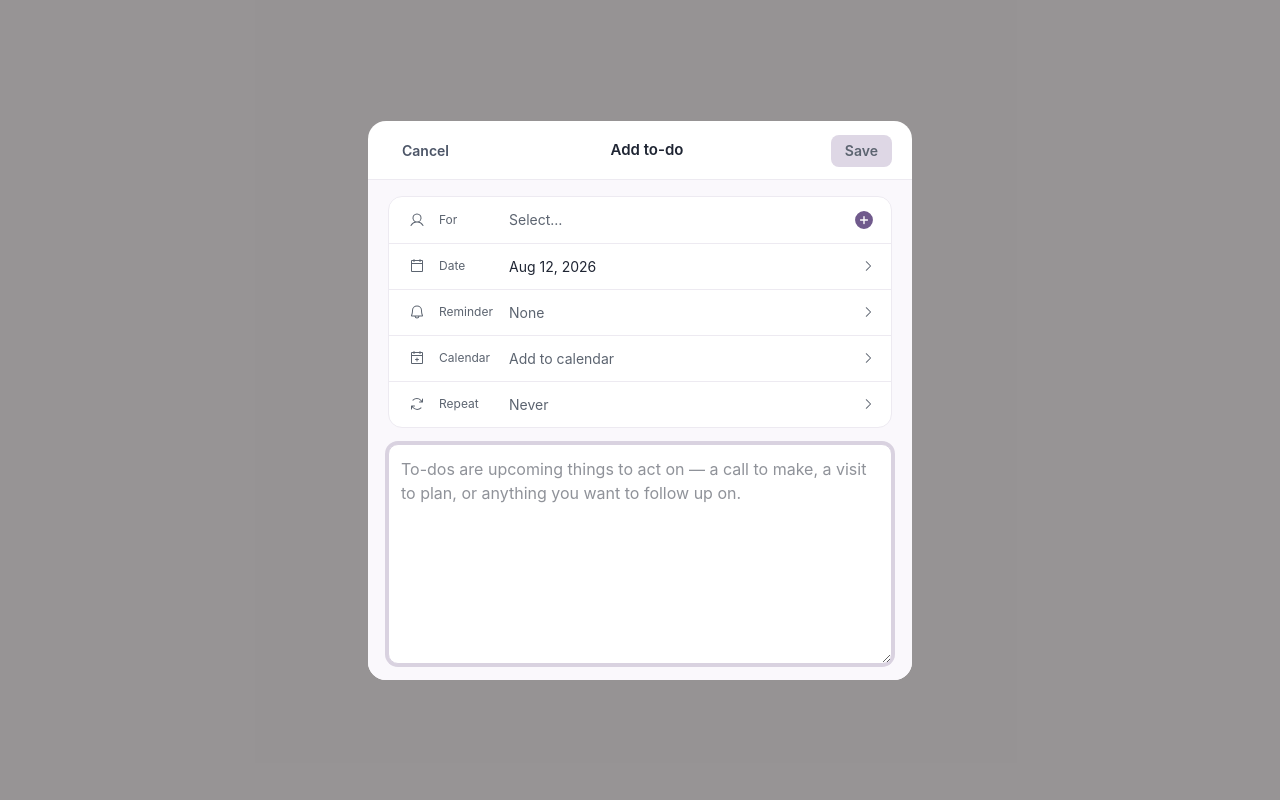
it: AddTodoModal › enables the Save button once a title is typed
The width and height of the screenshot is (1280, 800).
Replace the text in the text box with placeholder "To-dos are upcoming" with "Call John": {"x": 640, "y": 554} 388,444 -> 892,664
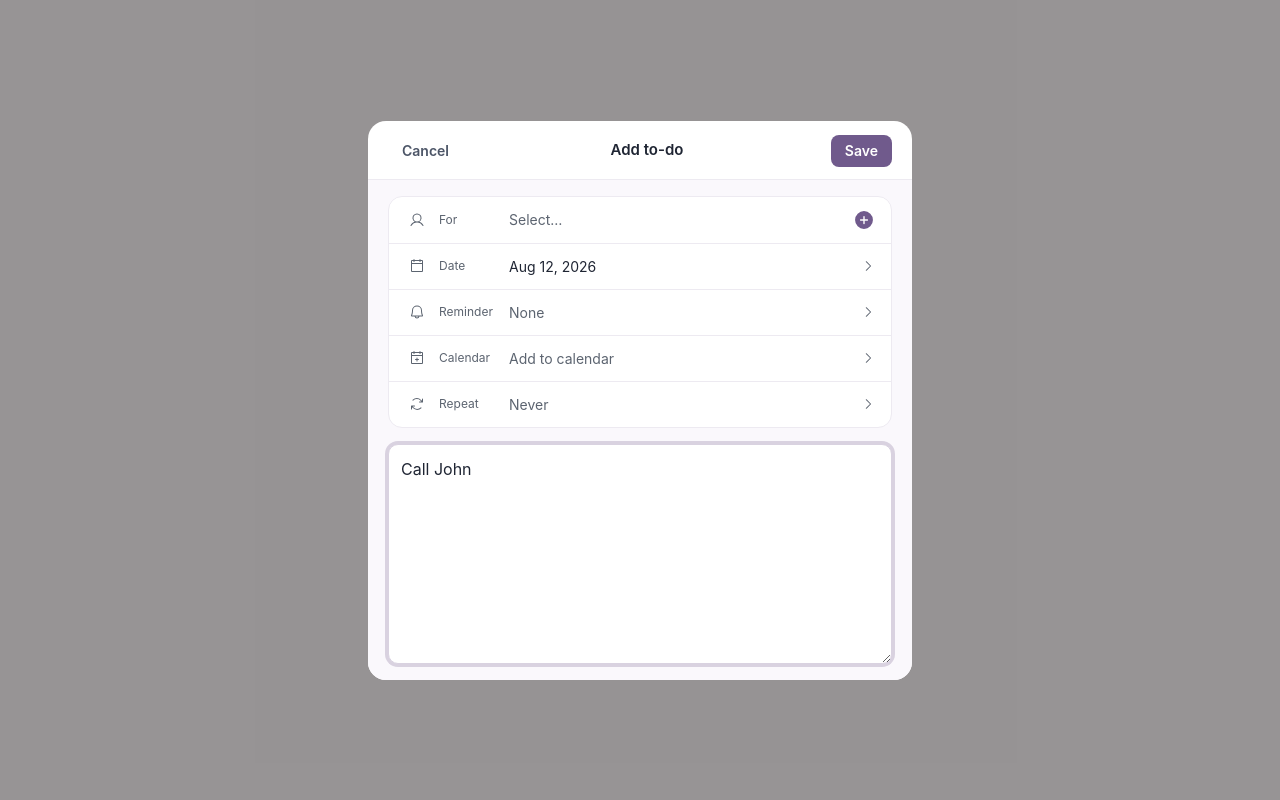
Check: the button "Save" is enabled, box 831,134 -> 892,166
